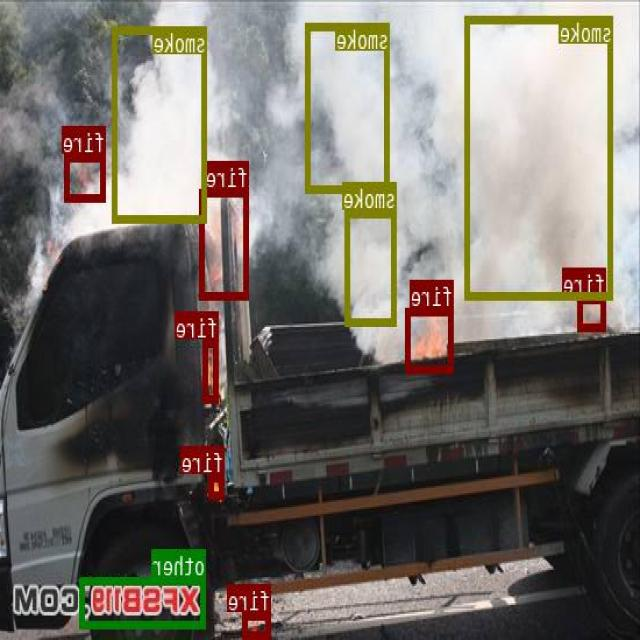fire: (200, 188, 250, 297), (406, 306, 454, 372), (66, 152, 106, 201), (204, 338, 220, 402), (579, 295, 607, 329), (244, 611, 272, 636), (210, 472, 225, 498)
other: (80, 576, 206, 626)
smoke: (466, 16, 613, 298), (114, 25, 208, 222), (307, 21, 390, 192), (346, 209, 398, 325)
